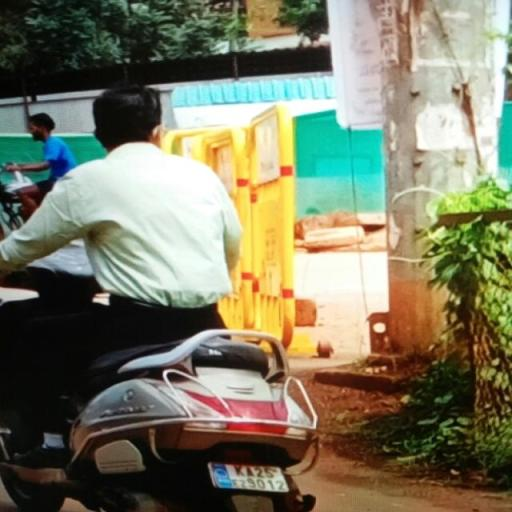bike: (0, 81, 323, 512)
numberplate: (212, 460, 290, 490)
withouthelmet: (94, 87, 156, 141)
